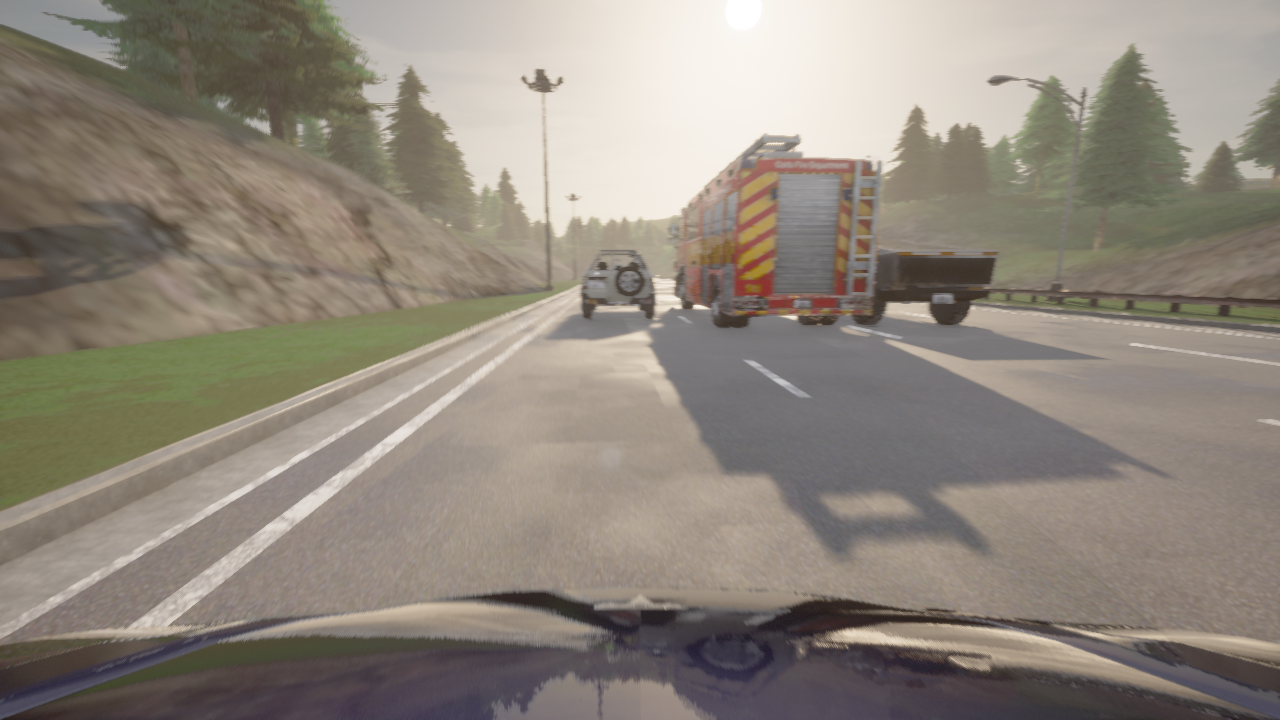cyclist: (0, 588, 1279, 719), (669, 134, 882, 326), (852, 240, 998, 325), (581, 250, 655, 319)
